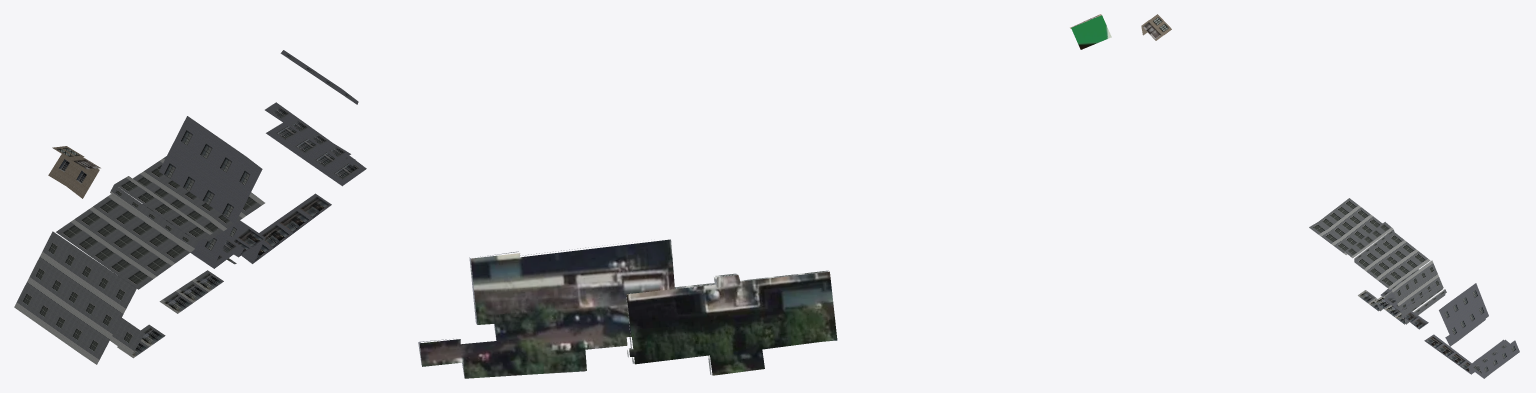
Rendered from tile_LOD4_r8_c8.glb.
3 renders of one model, left to right at view 1: azimuth 30°, elevation 25°; view 2: azimuth 150°, elevation 25°; view 3: azimuth 270°, elevation 25°, orthographic. The views are drawn at different scales.
Size of the model in its own units: 119 by 73.25 by 117.
15 materials, 15 textured.
